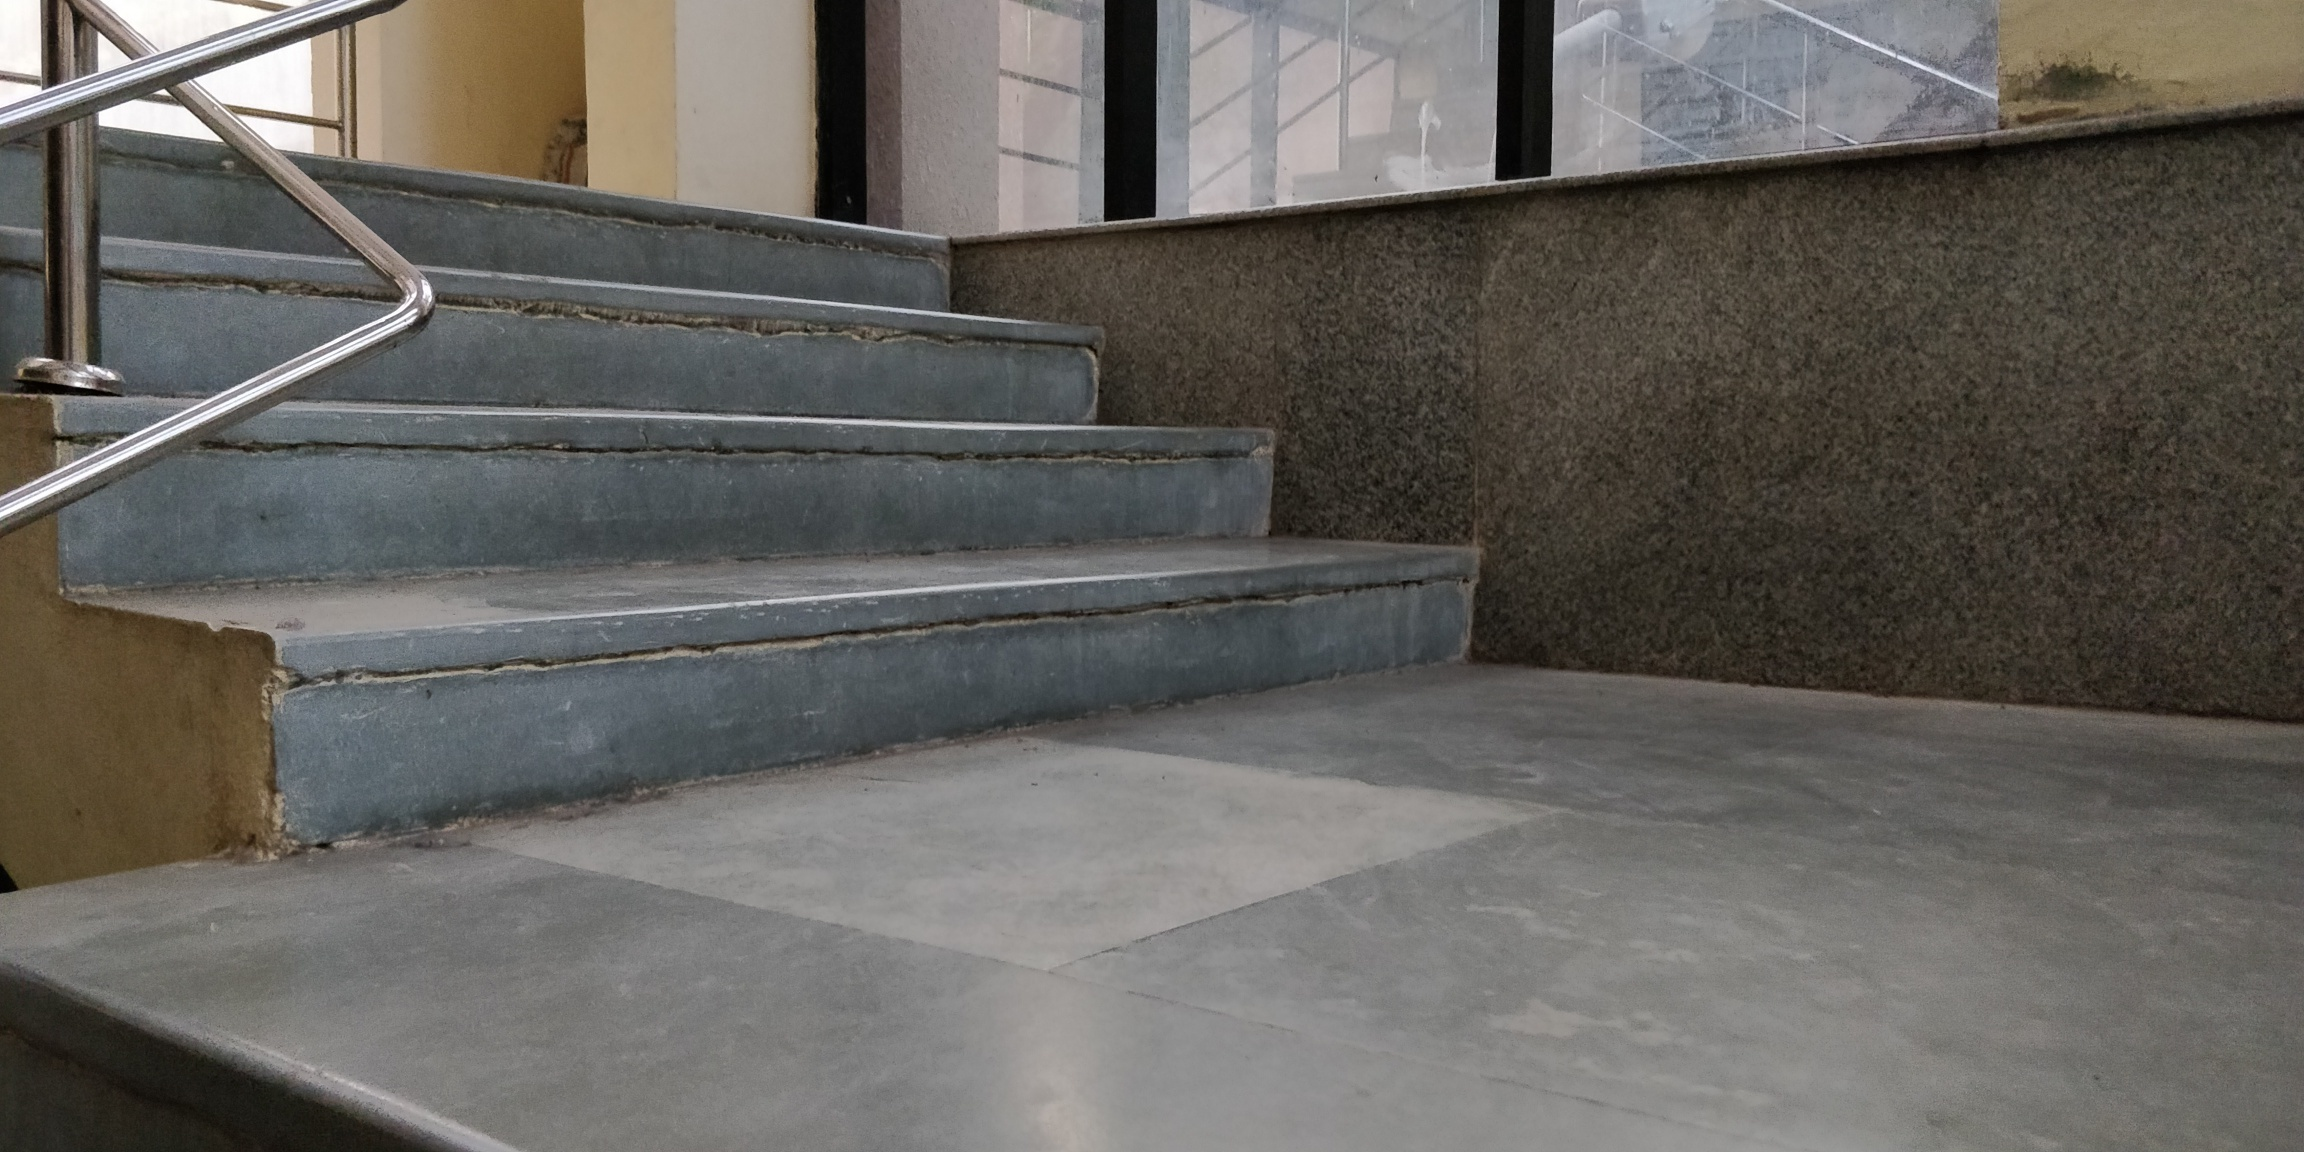stairs_up: (90, 116, 1377, 799)
